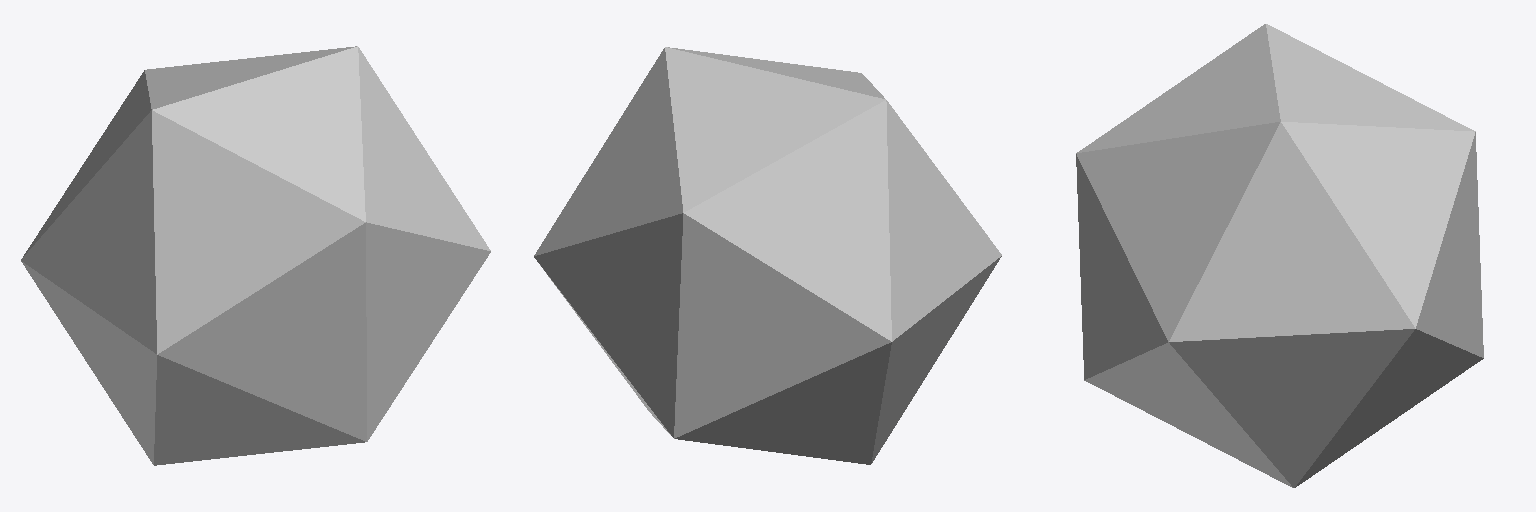
File: dice_no_uv.obj
3 views of the same model, side by side, from view 1: azimuth 30°, elevation 25°; view 2: azimuth 150°, elevation 25°; view 3: azimuth 270°, elevation 25° (orthographic).
Size of the model in its own units: 1.68 by 1.64 by 1.65.